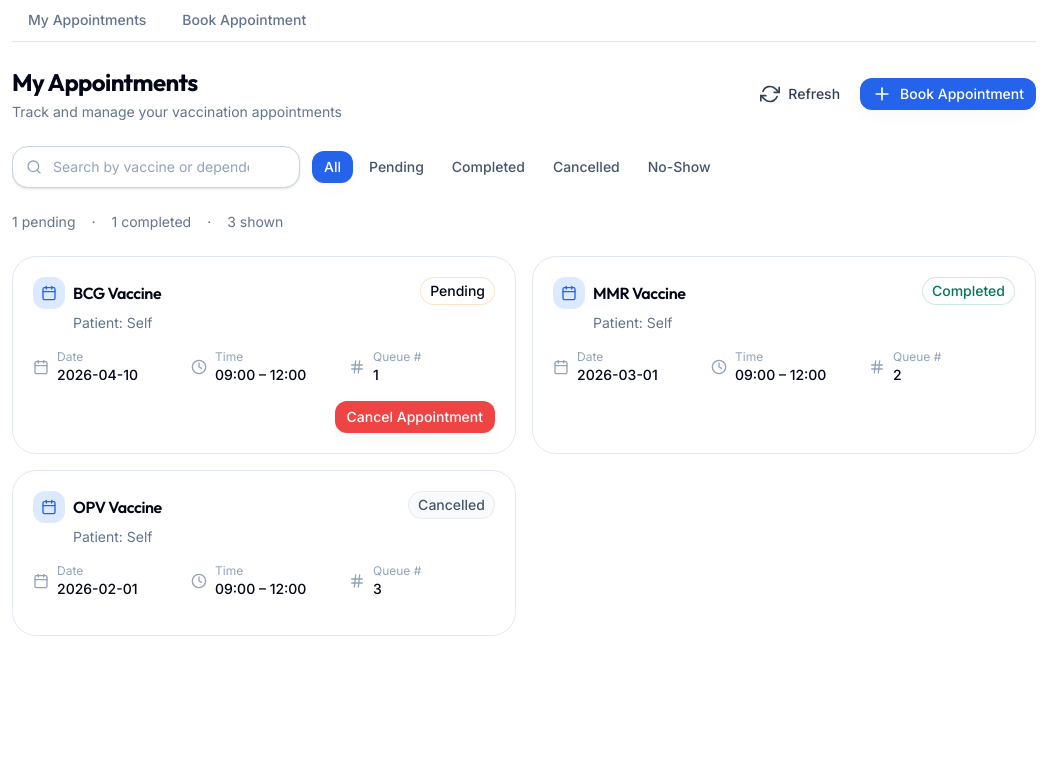
Test: AppointmentsPage › shows empty state when no appointments match filter
Check: the heading "BCG Vaccine" is shown, box left=73, top=281, right=161, bottom=305
Click the button "No-Show": point(679, 167) left=636, top=151, right=723, bottom=183
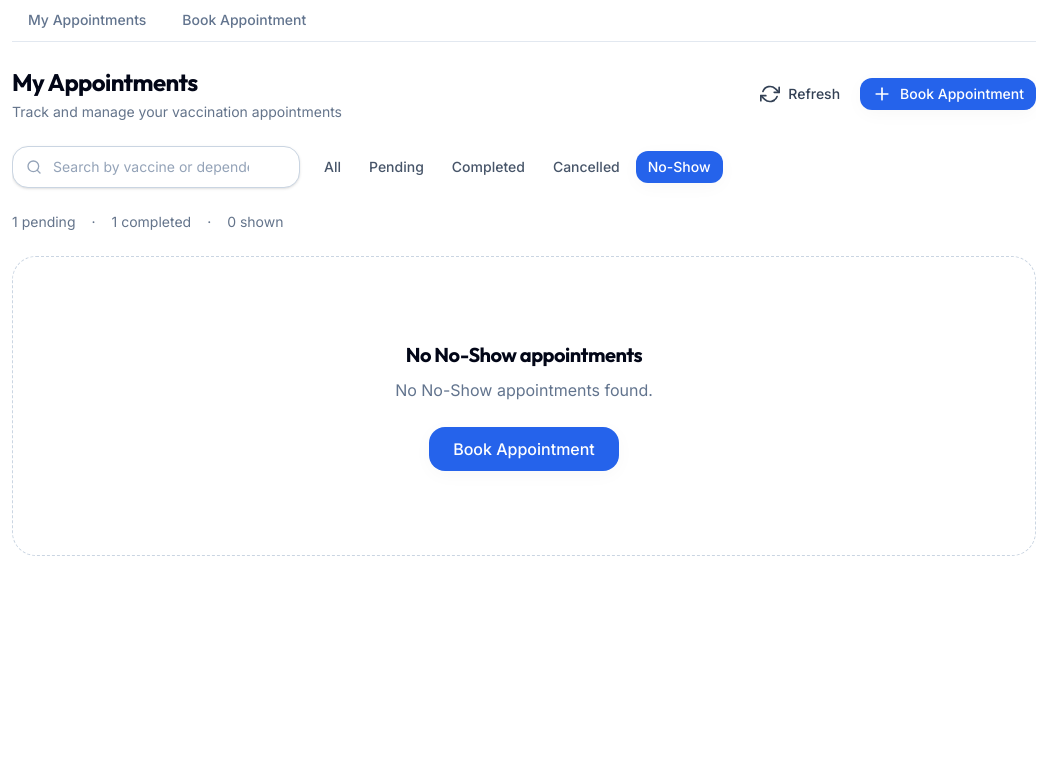
Check: the heading "No No-Show appointments" is shown, box left=406, top=341, right=642, bottom=369
